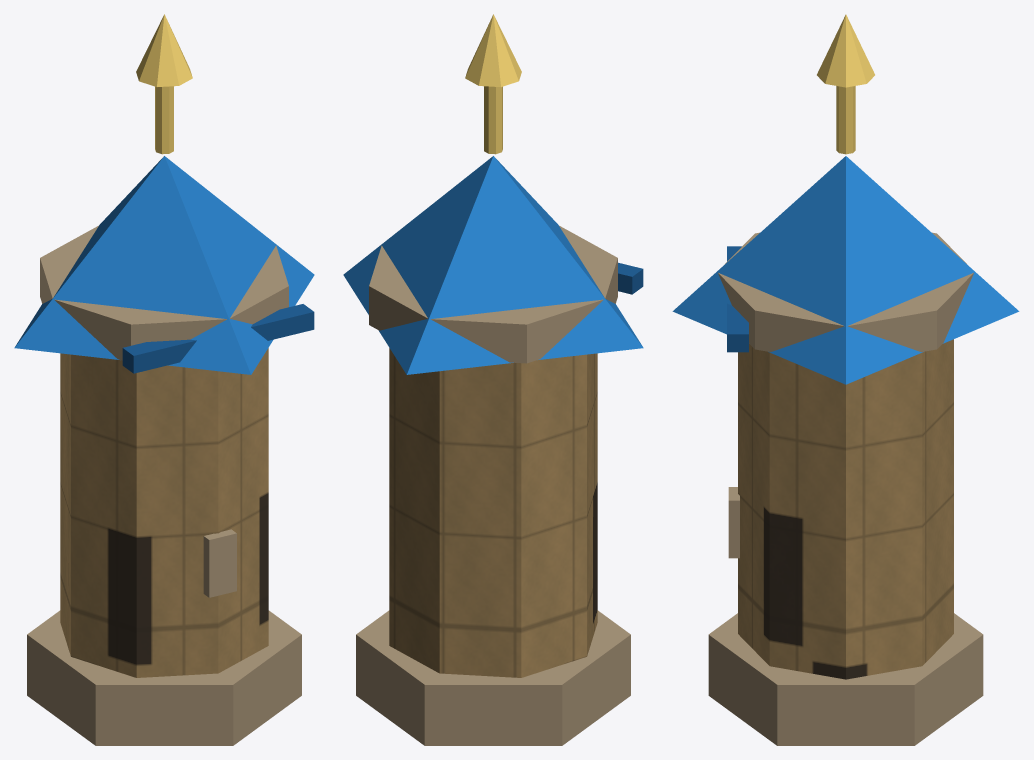
Rendered from city-module-tower-lod1.glb.
3 renders of one model, left to right at view 1: azimuth 30°, elevation 25°; view 2: azimuth 150°, elevation 25°; view 3: azimuth 270°, elevation 25°, orthographic.
Visible parts, largest first — view 1: module_tower_stone_body, module_tower_blue_roof, module_tower_plinth, module_tower_top_stone_ring, module_tower_roof_front_trim, module_tower_gold_tip, module_tower_window_shadow_front, module_tower_gold_spire; view 2: module_tower_stone_body, module_tower_blue_roof, module_tower_plinth, module_tower_top_stone_ring, module_tower_gold_tip, module_tower_gold_spire, module_tower_roof_front_trim; view 3: module_tower_stone_body, module_tower_blue_roof, module_tower_plinth, module_tower_top_stone_ring, module_tower_gold_tip, module_tower_gold_spire, module_tower_roof_front_trim, module_tower_window_shadow_front.
Part boxes in pixels (left/top/right/bottom): module_tower_stone_body: left=60, top=348, right=268, bottom=677; module_tower_blue_roof: left=14, top=156, right=314, bottom=374; module_tower_plinth: left=27, top=610, right=301, bottom=745; module_tower_top_stone_ring: left=40, top=225, right=288, bottom=360; module_tower_roof_front_trim: left=122, top=304, right=314, bottom=373; module_tower_gold_tip: left=136, top=14, right=192, bottom=86; module_tower_window_shadow_front: left=203, top=529, right=236, bottom=597; module_tower_gold_spire: left=155, top=86, right=173, bottom=154; module_tower_stone_body: left=389, top=348, right=597, bottom=677; module_tower_blue_roof: left=343, top=156, right=643, bottom=374; module_tower_plinth: left=356, top=610, right=630, bottom=745; module_tower_top_stone_ring: left=369, top=225, right=617, bottom=363; module_tower_gold_tip: left=465, top=14, right=521, bottom=86; module_tower_gold_spire: left=484, top=86, right=502, bottom=154; module_tower_roof_front_trim: left=618, top=262, right=643, bottom=294; module_tower_stone_body: left=738, top=339, right=953, bottom=679; module_tower_blue_roof: left=672, top=156, right=1019, bottom=384; module_tower_plinth: left=708, top=613, right=983, bottom=745; module_tower_top_stone_ring: left=718, top=232, right=973, bottom=351; module_tower_gold_tip: left=817, top=14, right=874, bottom=87; module_tower_gold_spire: left=836, top=86, right=855, bottom=154; module_tower_roof_front_trim: left=727, top=246, right=748, bottom=352; module_tower_window_shadow_front: left=728, top=487, right=739, bottom=558.
Bounding box in the file's own units: 0.2828 × 0.613 × 0.2828.
Materials: 5 (1 with a texture image).
